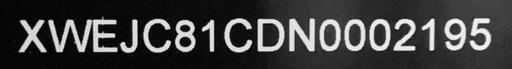letter: (46, 18, 92, 55), (220, 15, 254, 58), (14, 15, 48, 56), (139, 16, 173, 55), (287, 14, 319, 55), (467, 16, 497, 55), (256, 16, 286, 55), (91, 15, 119, 56), (440, 15, 468, 56), (392, 16, 420, 57), (318, 15, 344, 56), (197, 15, 221, 56), (344, 15, 368, 56), (367, 16, 391, 57), (418, 16, 440, 57), (173, 18, 197, 55), (118, 17, 140, 54)
